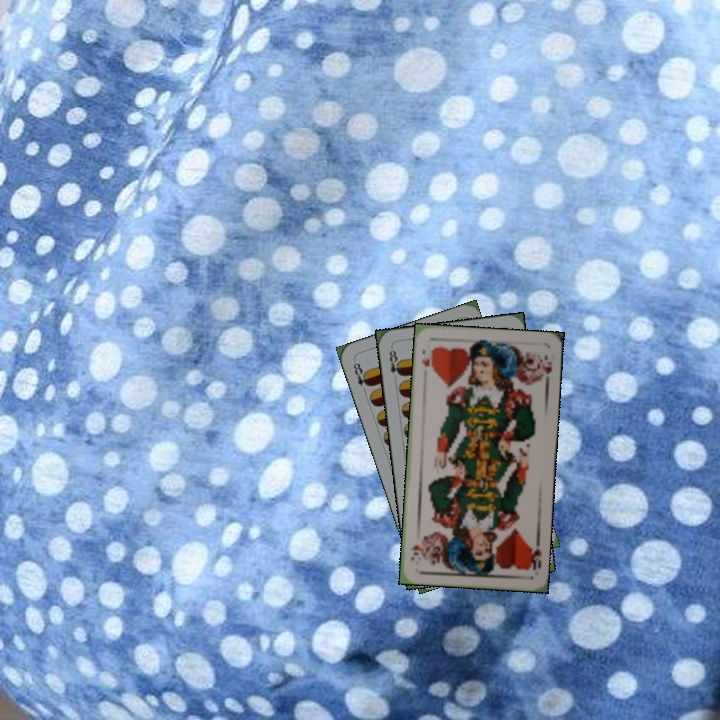E8: (349, 357, 373, 396), (385, 344, 404, 384)
HO: (524, 542, 544, 572), (418, 342, 437, 370)
